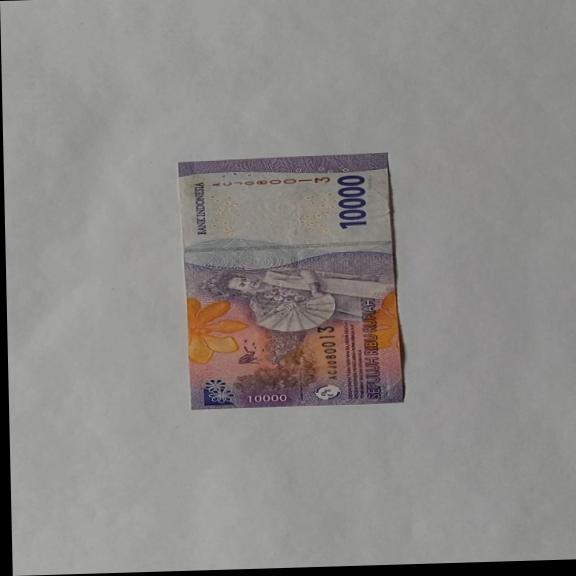Kertas: (178, 151, 405, 410)
